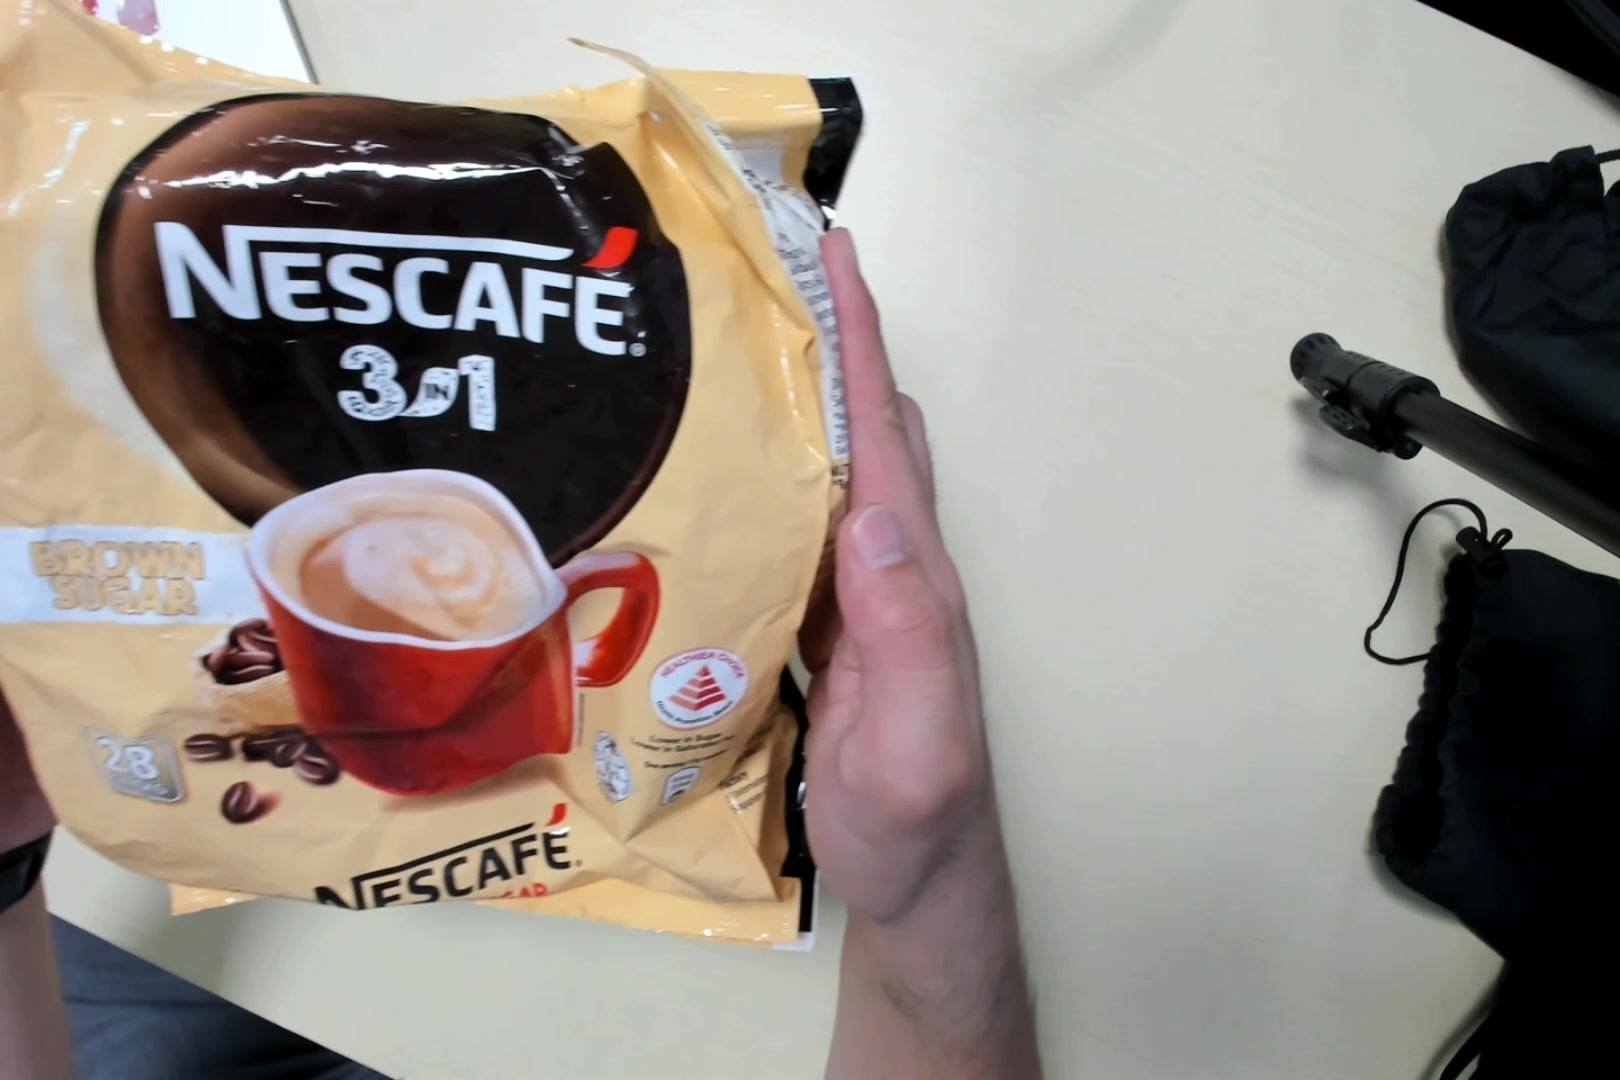Coffee(Powder)_500-599g_Halal_Healthy: (1, 40, 868, 968)
